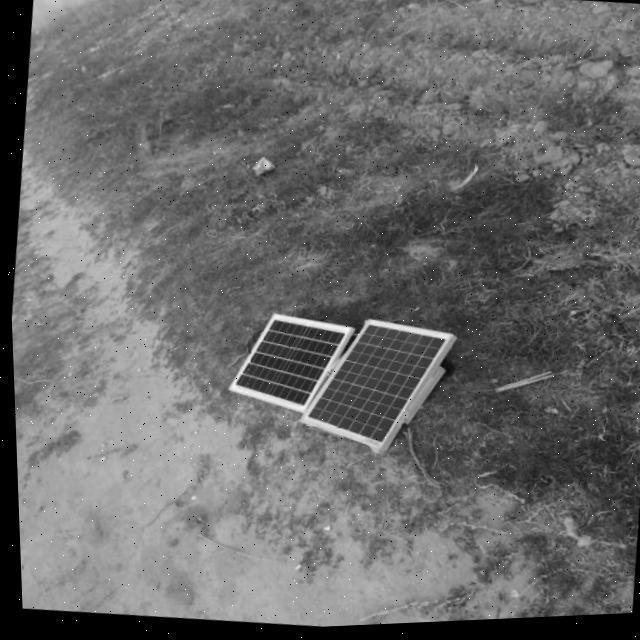Normal Solar Panel: (290, 313, 453, 462), (220, 310, 350, 421)
